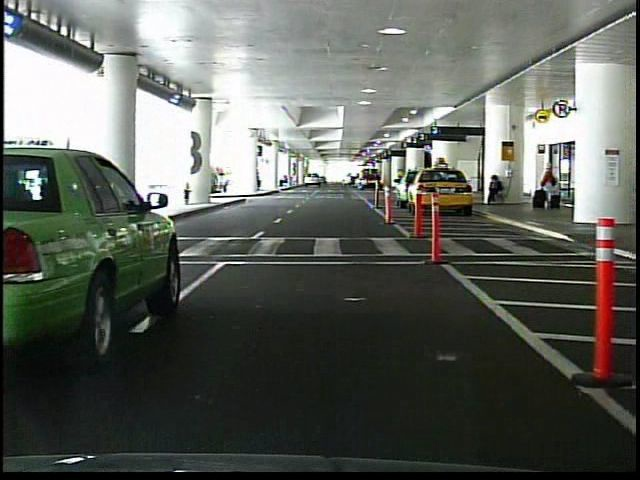person: (68, 148, 92, 226), (542, 162, 561, 211), (485, 173, 505, 206)
